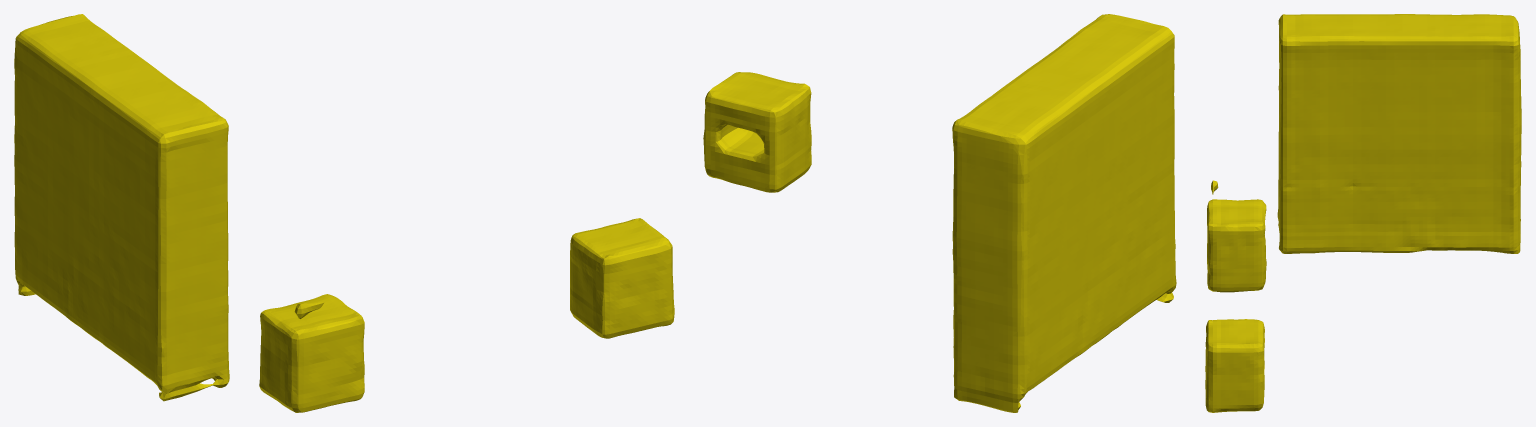
File: 000-cab.glb
3 views of the same model, side by side, from view 1: azimuth 30°, elevation 25°; view 2: azimuth 150°, elevation 25°; view 3: azimuth 270°, elevation 25° (orthographic). The views are drawn at different scales.
Visible parts, largest first — view 1: room_cabinet; view 2: room_cabinet; view 3: room_cabinet.
Part boxes in pixels (x1,y1,x2,y2): room_cabinet: [14, 14, 674, 412]; room_cabinet: [703, 14, 1176, 412]; room_cabinet: [1205, 14, 1521, 412].
Size of the model in its own units: 0.67 by 0.3681 by 0.4814.
